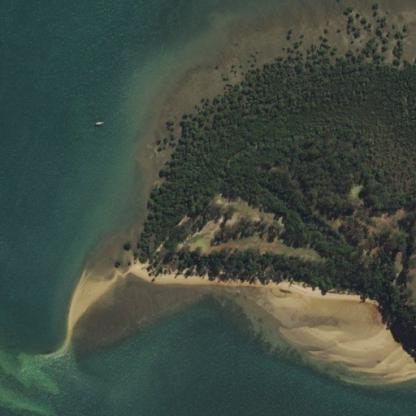ship: (94, 119, 103, 122)
